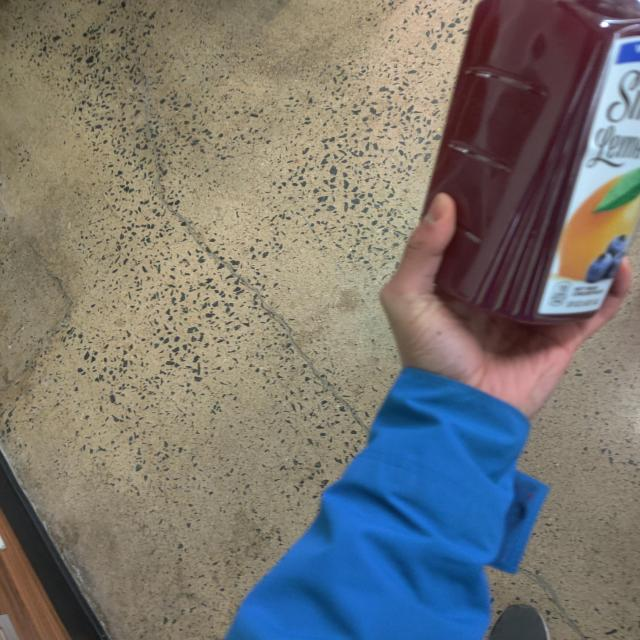Juice: (421, 0, 639, 354)
